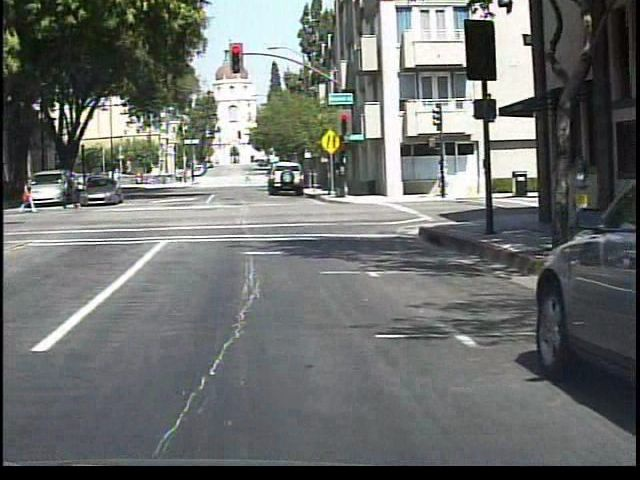person: (57, 170, 80, 215), (17, 177, 40, 217), (242, 170, 251, 187)
